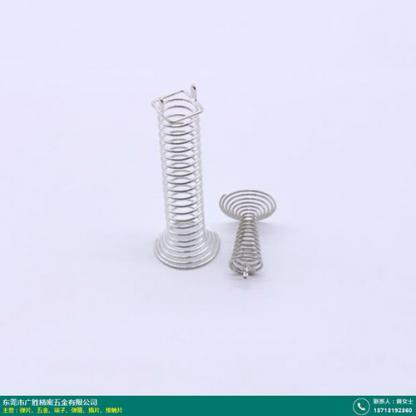FOD: (149, 82, 226, 273), (217, 187, 279, 281)
